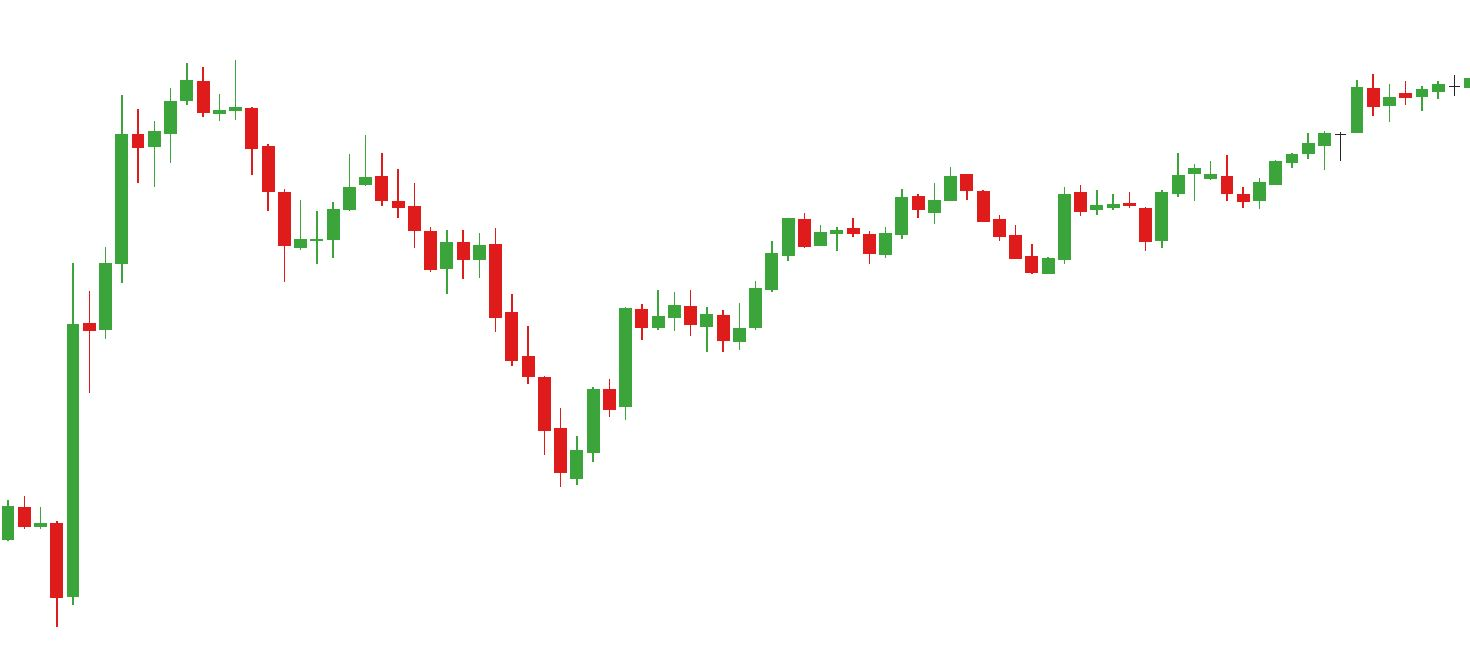buy: (863, 209, 1056, 279)
